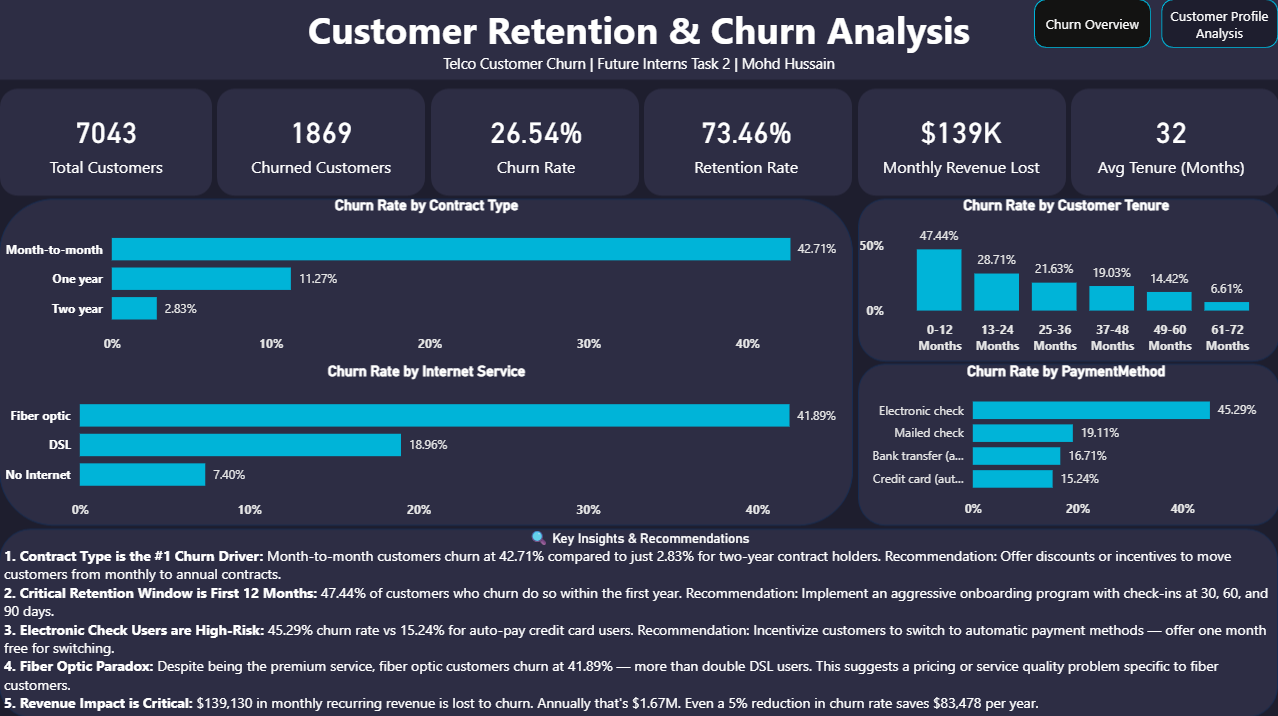

The dashboard page shown, as its layout file describes it:
{"tool":"powerbi","page":{"name":"Churn Overview","canvas":[1280,720],"ordinal":0},"visuals":[{"type":"textbox","box":[0,0,1280,83.2],"z":0},{"type":"card","fields":{"Values":["WA_Fn-UseC_-Telco-Customer-Chur.Total Customers"]},"box":[0,91.7,214.7,103.8],"z":1000},{"type":"card","fields":{"Values":["WA_Fn-UseC_-Telco-Customer-Chur.Churned Customers"]},"box":[214.7,91.7,214.7,103.8],"z":2000},{"type":"card","fields":{"Values":["WA_Fn-UseC_-Telco-Customer-Chur.Churn Rate"]},"box":[429.5,91.7,214.7,103.8],"z":3000},{"type":"card","fields":{"Values":["WA_Fn-UseC_-Telco-Customer-Chur.Retention Rate"]},"box":[640.6,91.7,214.7,103.8],"z":4000},{"type":"card","fields":{"Values":["WA_Fn-UseC_-Telco-Customer-Chur.Monthly Revenue Lost"]},"box":[855.4,91.7,214.7,103.8],"z":5000},{"type":"card","fields":{"Values":["WA_Fn-UseC_-Telco-Customer-Chur.Avg Tenure"]},"box":[1065.3,91.7,214.7,103.8],"z":6000},{"type":"clusteredBarChart","title":"Churn Rate by Contract Type","fields":{"Category":["WA_Fn-UseC_-Telco-Customer-Chur.Contract"],"Y":["WA_Fn-UseC_-Telco-Customer-Chur.Churn Rate"]},"box":[0,197.9,855.4,165.3],"z":7000},{"type":"clusteredColumnChart","title":"Churn Rate by Customer Tenure","fields":{"Y":["WA_Fn-UseC_-Telco-Customer-Chur.Churn Rate"],"Category":["WA_Fn-UseC_-Telco-Customer-Chur.Tenure_Group"]},"box":[855.4,197.9,424.7,165.3],"z":8000},{"type":"clusteredBarChart","fields":{"Category":["WA_Fn-UseC_-Telco-Customer-Chur.PaymentMethod"],"Y":["WA_Fn-UseC_-Telco-Customer-Chur.Churn Rate"]},"box":[855.4,363.1,424.7,164.1],"z":9000},{"type":"clusteredBarChart","title":"Churn Rate by Internet Service","fields":{"Category":["WA_Fn-UseC_-Telco-Customer-Chur.InternetService"],"Y":["WA_Fn-UseC_-Telco-Customer-Chur.Churn Rate"]},"box":[0,363.1,855.4,165.3],"z":10000},{"type":"textbox","title":"🔍 Key Insights & Recommendations","box":[0,527.2,1280,191.8],"z":11000},{"type":"pageNavigator","box":[1035.1,0,244.9,49.5],"z":11001}]}

Visuals, with their boxes in screenshot pixels (x1, y1, x2, y2), scaled from the page's 1280x720 canvas onto the 1278x716 screenshot:
textbox: bbox=(0, 0, 1277, 83)
card - WA_Fn-UseC_-Telco-Customer-Chur.Total Customers: bbox=(0, 91, 214, 194)
card - WA_Fn-UseC_-Telco-Customer-Chur.Churned Customers: bbox=(214, 91, 429, 194)
card - WA_Fn-UseC_-Telco-Customer-Chur.Churn Rate: bbox=(429, 91, 643, 194)
card - WA_Fn-UseC_-Telco-Customer-Chur.Retention Rate: bbox=(640, 91, 854, 194)
card - WA_Fn-UseC_-Telco-Customer-Chur.Monthly Revenue Lost: bbox=(854, 91, 1068, 194)
card - WA_Fn-UseC_-Telco-Customer-Chur.Avg Tenure: bbox=(1064, 91, 1277, 194)
"Churn Rate by Contract Type" clusteredBarChart: bbox=(0, 197, 854, 361)
"Churn Rate by Customer Tenure" clusteredColumnChart: bbox=(854, 197, 1277, 361)
clusteredBarChart - WA_Fn-UseC_-Telco-Customer-Chur.PaymentMethod x WA_Fn-UseC_-Telco-Customer-Chur.Churn Rate: bbox=(854, 361, 1277, 524)
"Churn Rate by Internet Service" clusteredBarChart: bbox=(0, 361, 854, 525)
"🔍 Key Insights & Recommendations" textbox: bbox=(0, 524, 1277, 715)
pageNavigator: bbox=(1033, 0, 1277, 49)
